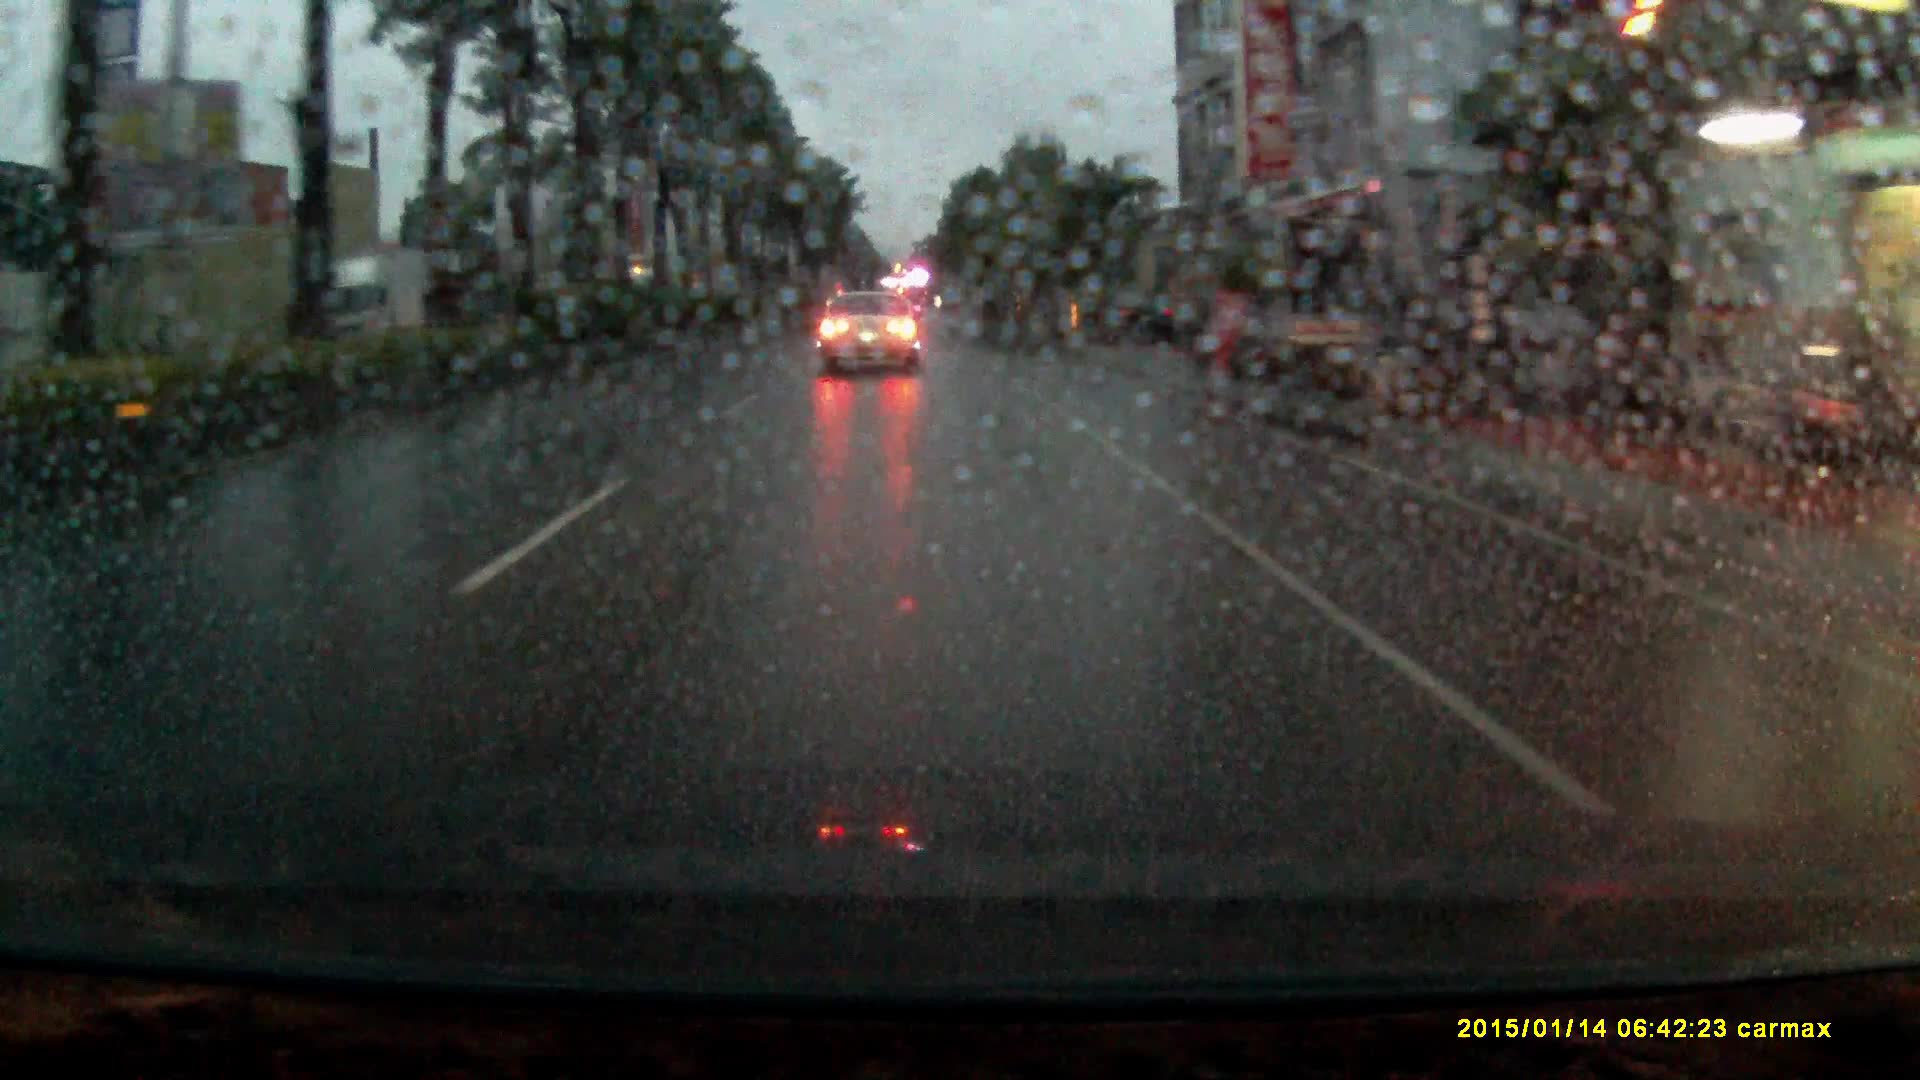vehicle: (303, 244, 467, 335), (820, 289, 920, 378), (1095, 291, 1178, 345)
